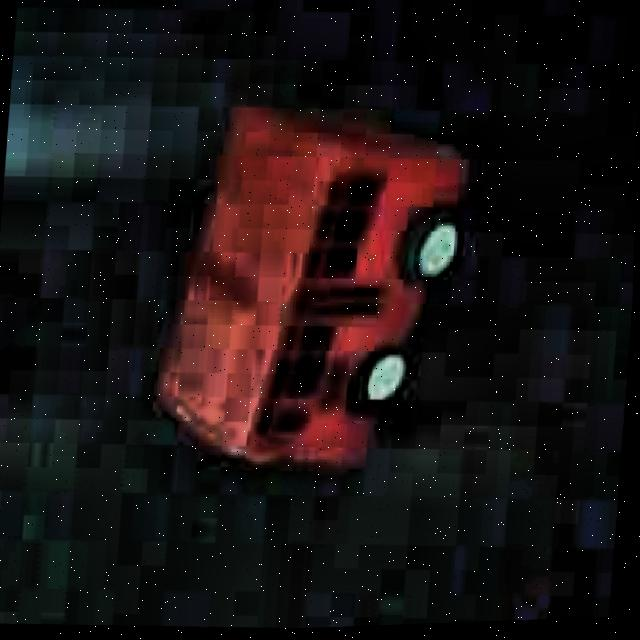bus: (147, 88, 487, 490)
